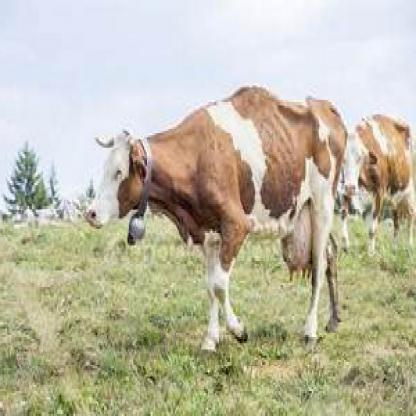cow: (86, 102, 348, 358)
